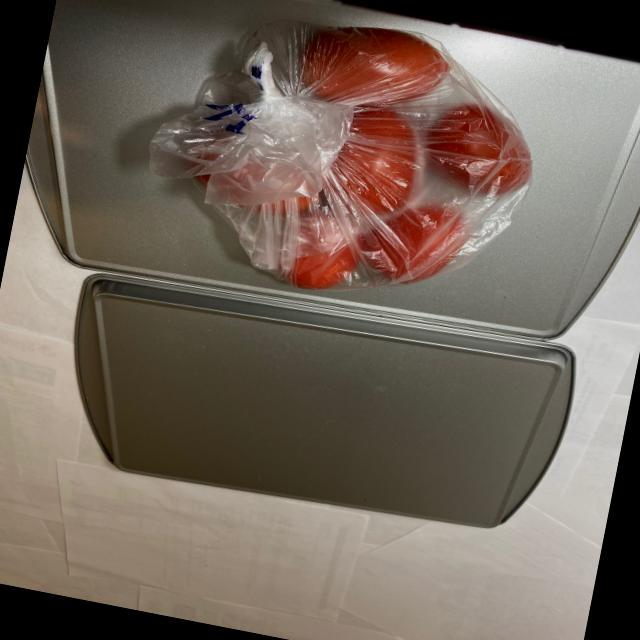tomato: (165, 2, 544, 330)
